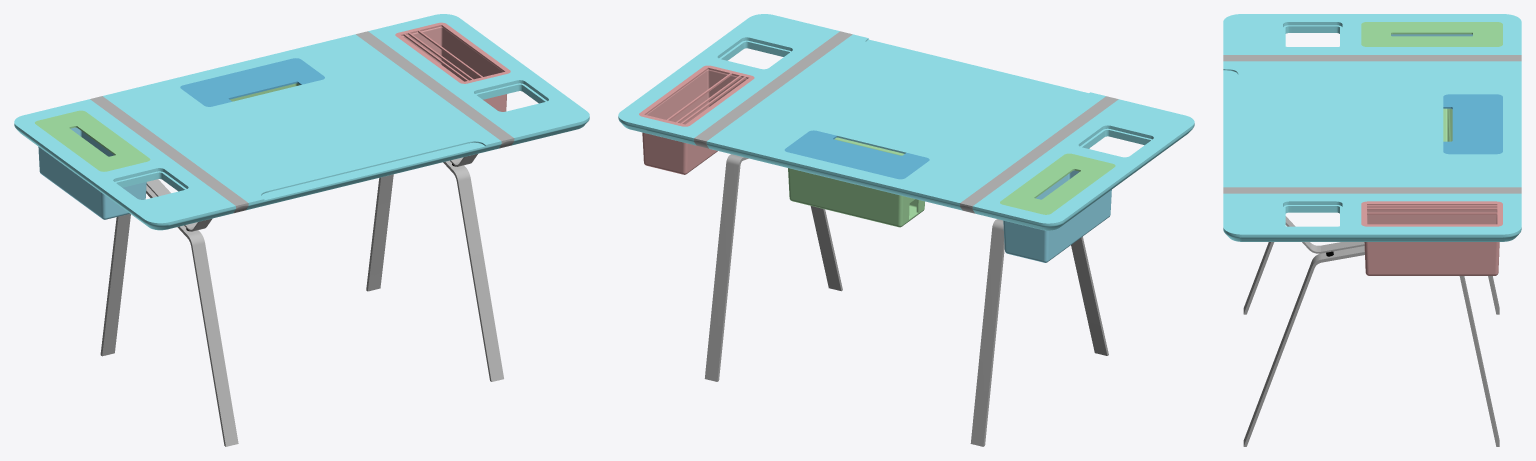
File: obj_desk_1_0fd1d0.glb
3 renders of one model, left to right at view 1: azimuth 30°, elevation 25°; view 2: azimuth 150°, elevation 25°; view 3: azimuth 270°, elevation 25°, orthographic. The views are drawn at different scales.
Parts seen in each view (by area): view 1: obj_desk_1_0fd1d0; view 2: obj_desk_1_0fd1d0; view 3: obj_desk_1_0fd1d0.
Boxes of the visible parts, left/top/right/bottom form: obj_desk_1_0fd1d0: left=14, top=14, right=589, bottom=446; obj_desk_1_0fd1d0: left=618, top=14, right=1194, bottom=446; obj_desk_1_0fd1d0: left=1223, top=14, right=1521, bottom=446.
Bounding box in the file's own units: 1.4 × 0.75 × 0.8002.
